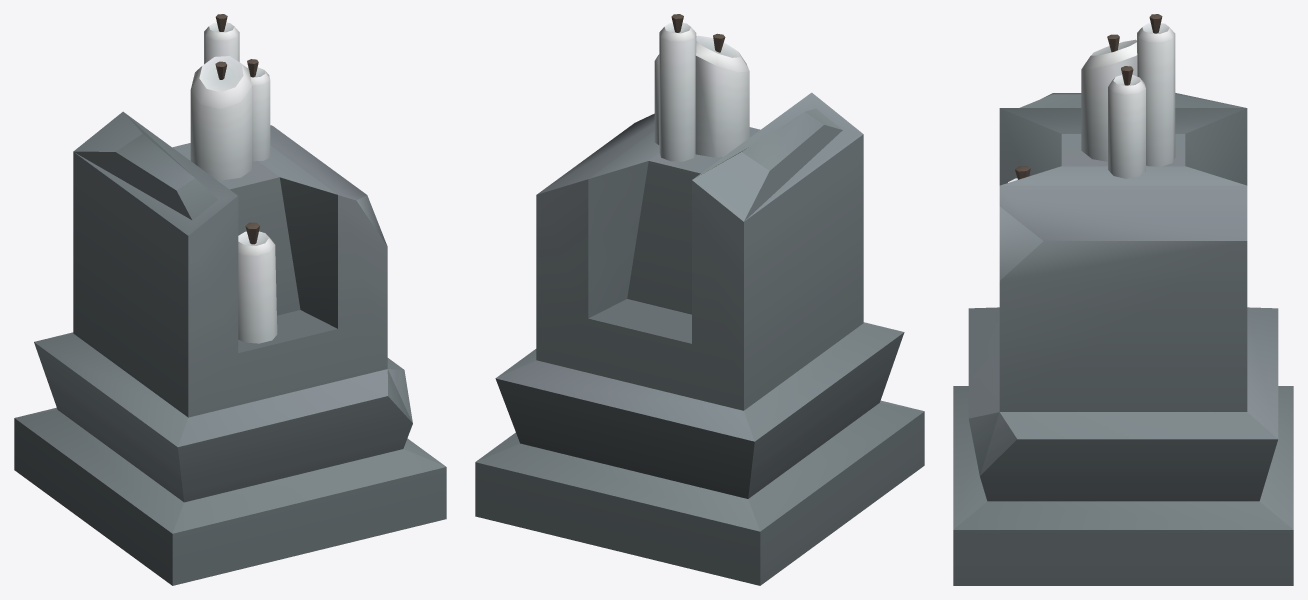
File: kay-santuario.gltf
3 views of the same model, side by side, from view 1: azimuth 30°, elevation 25°; view 2: azimuth 150°, elevation 25°; view 3: azimuth 270°, elevation 25° (orthographic). The views are drawn at different scales.
Parts seen in each view (by area): view 1: shrine_candles; view 2: shrine_candles; view 3: shrine_candles.
Part boxes in pixels (x1,y1,x2,y2): shrine_candles: (14,14,446,585); shrine_candles: (475,14,924,585); shrine_candles: (953,14,1293,585).
Bounding box in the file's own units: 0.5495 × 0.8947 × 0.5495.
1 material, 1 textured.
